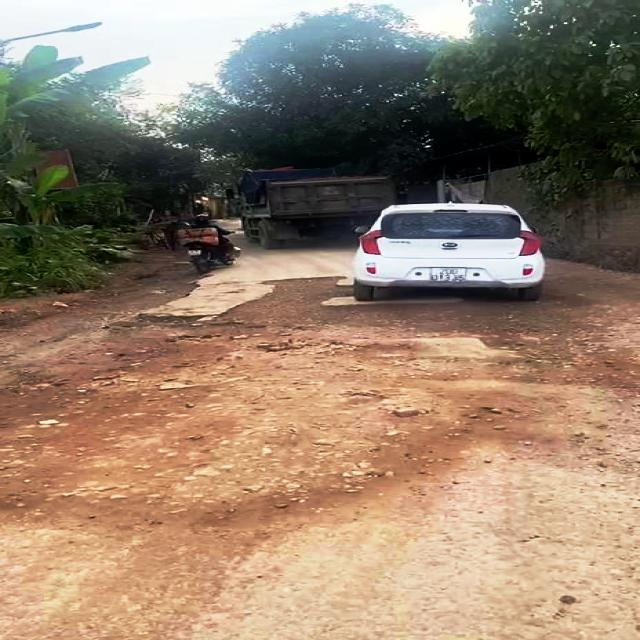pothole: (76, 308, 341, 392), (369, 313, 640, 392), (221, 266, 357, 342)
